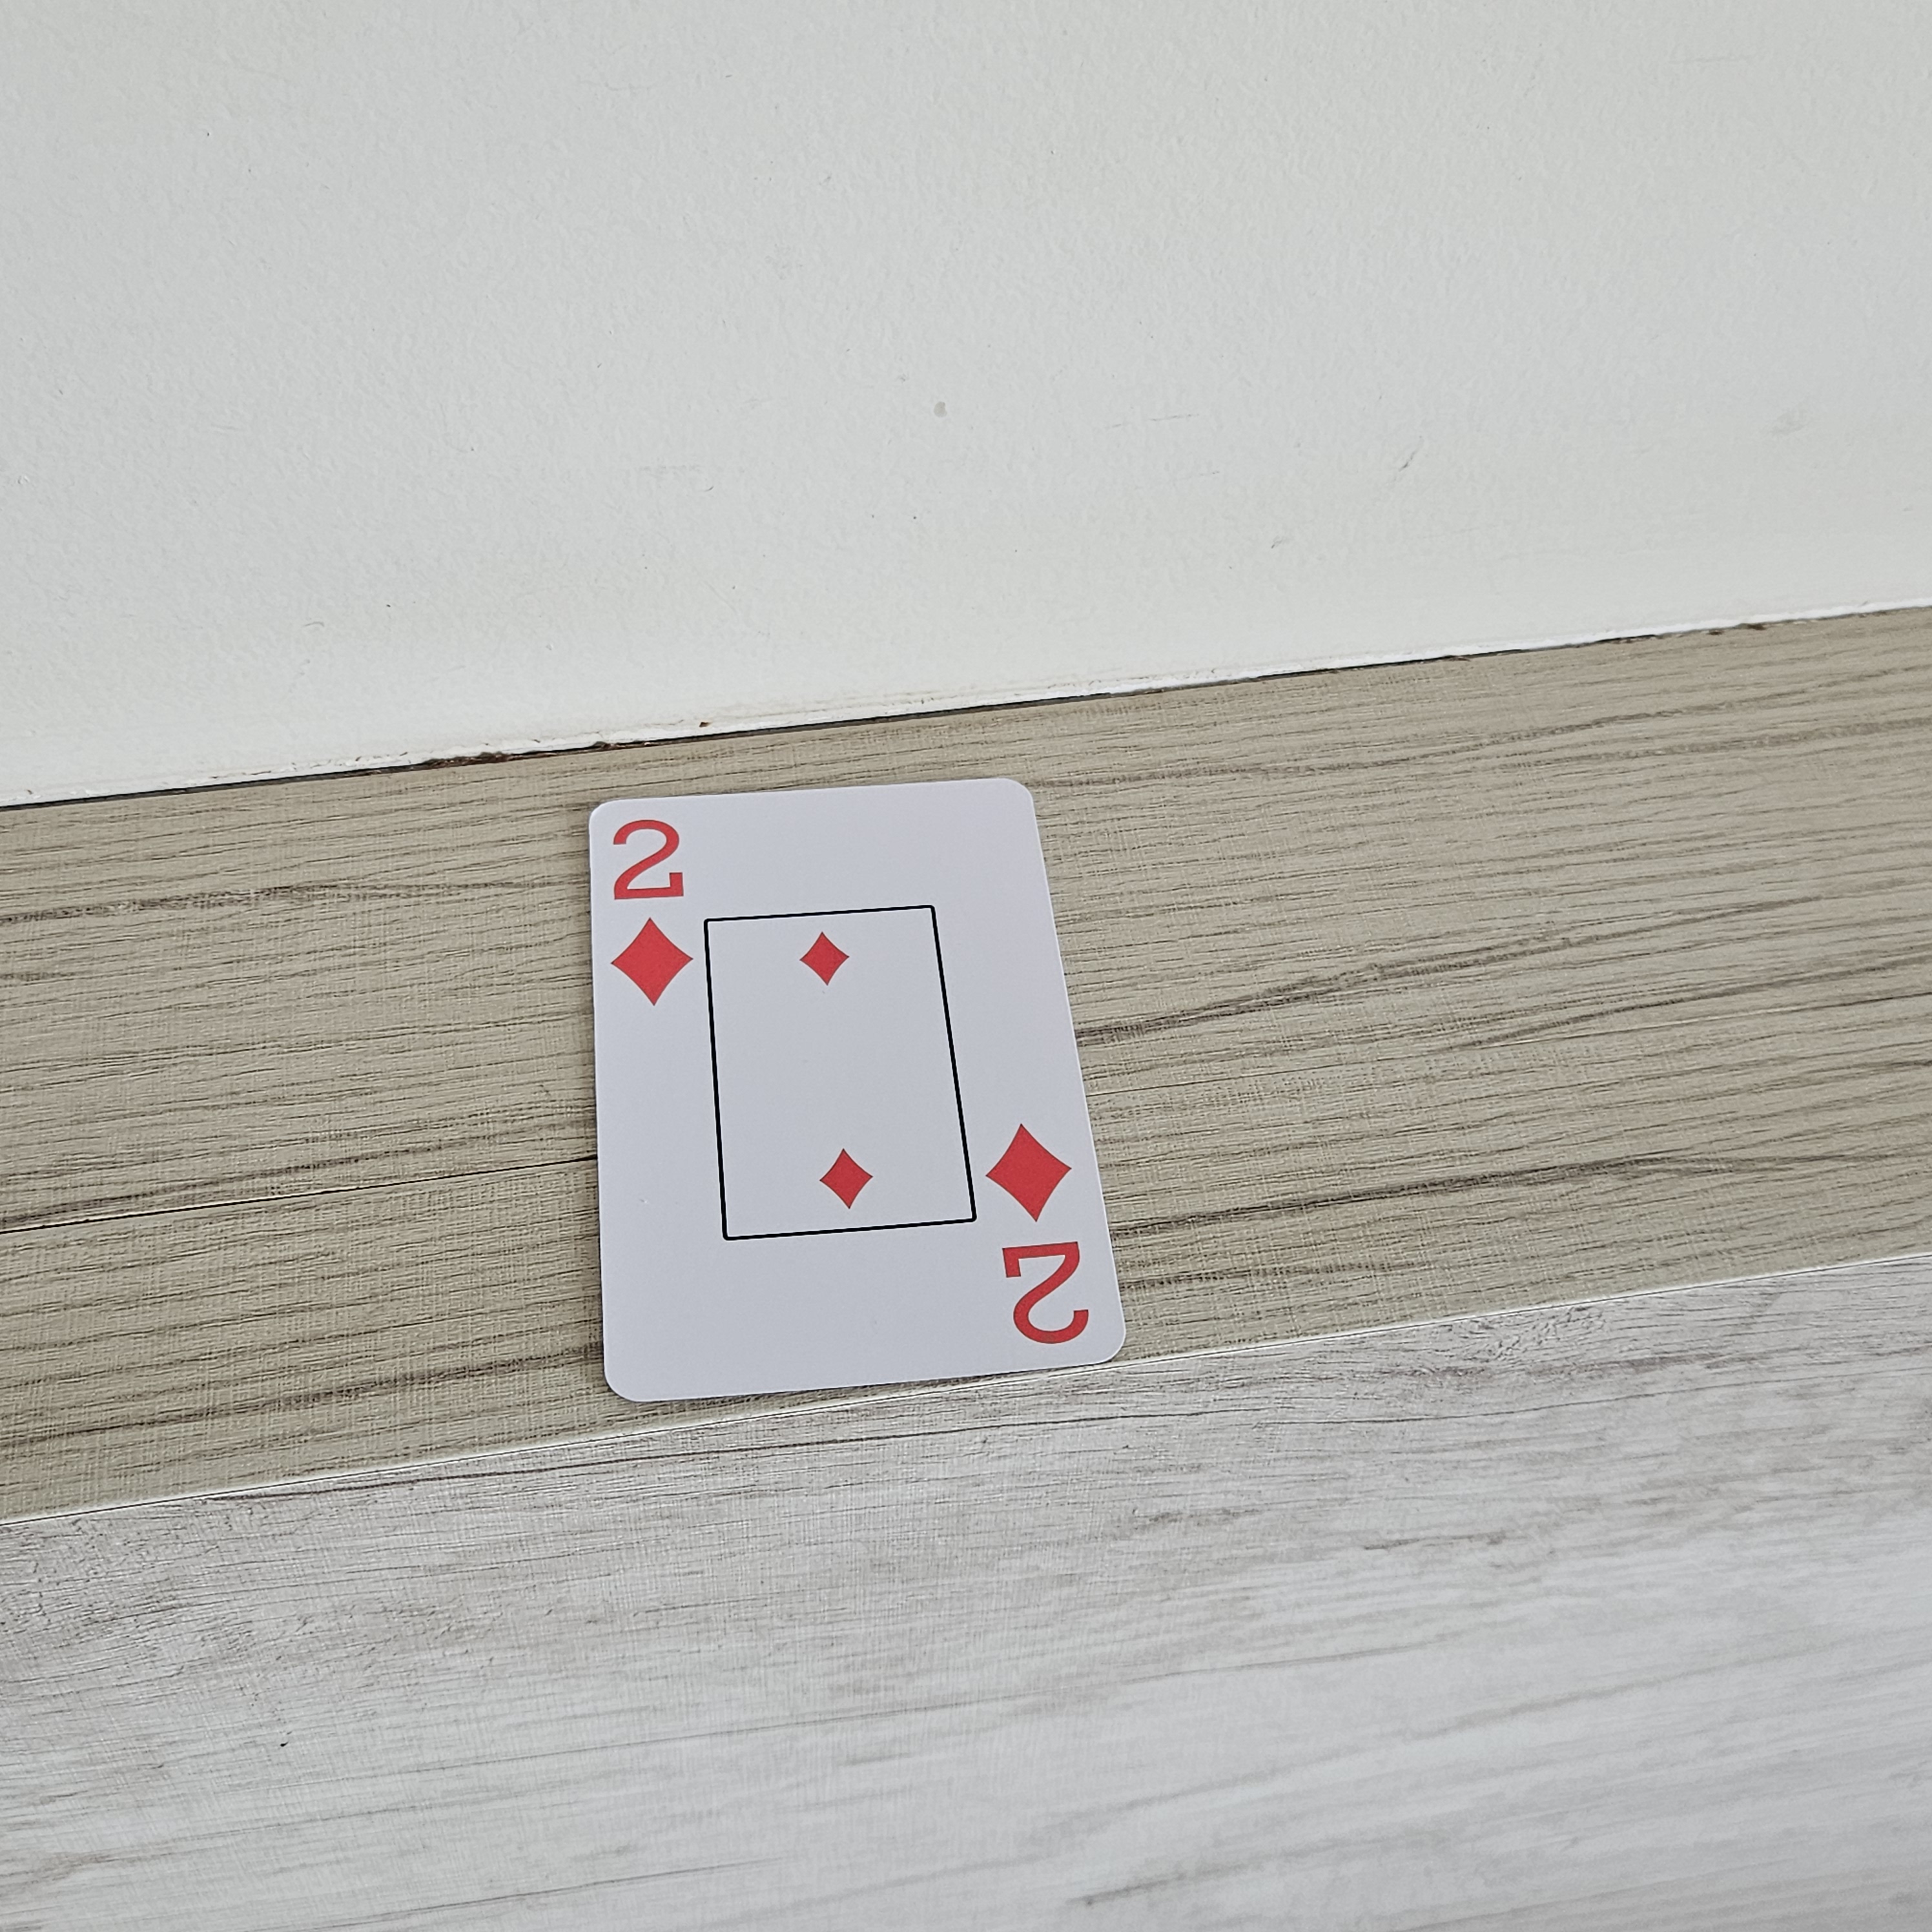2O: (971, 1115, 1109, 1357), (602, 805, 709, 1024)
